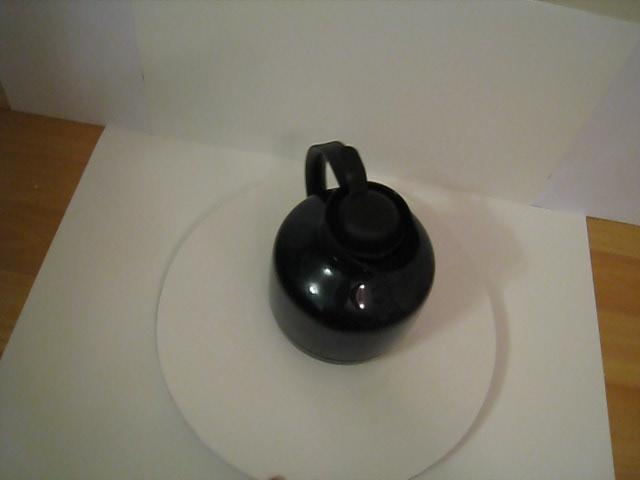pitcher: (254, 129, 437, 381)
